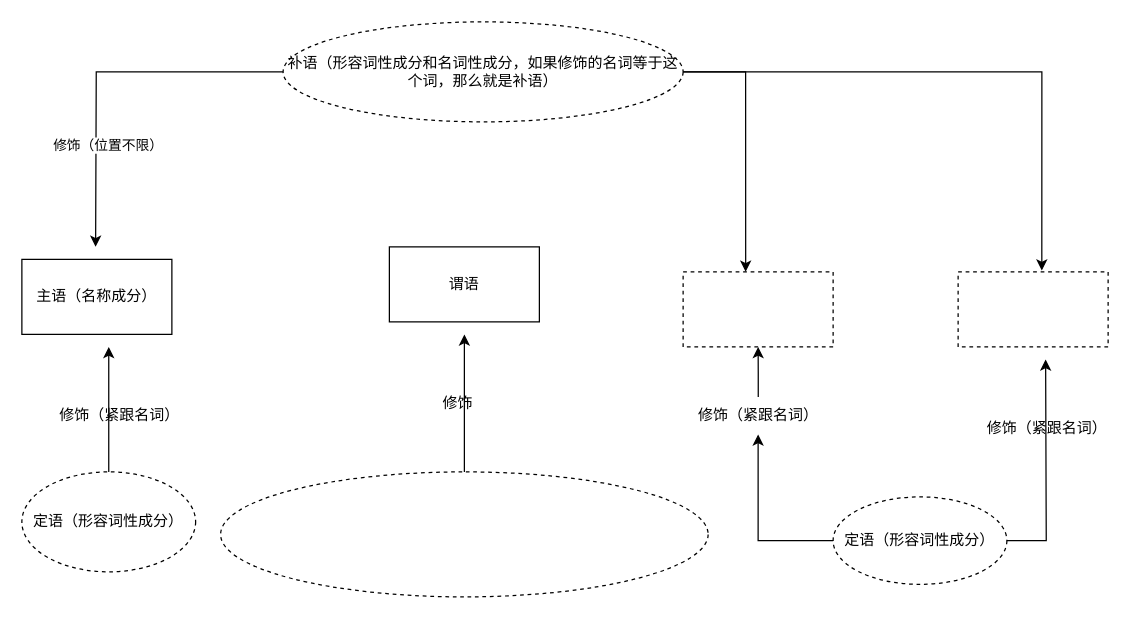
Image size: 1130x619. Some labels were removed from this diagram. Each missing label, with the centre of its shape:
宾语: pixel 757 309
宾语(如果是主谓双宾，那么可以用介词to 和 for 来改写): pixel 1032 309
状语（副词成分）位置不限，可以谓语前后，也可以句子后面， 如果多个，强调的是最后面的: pixel 463 534
